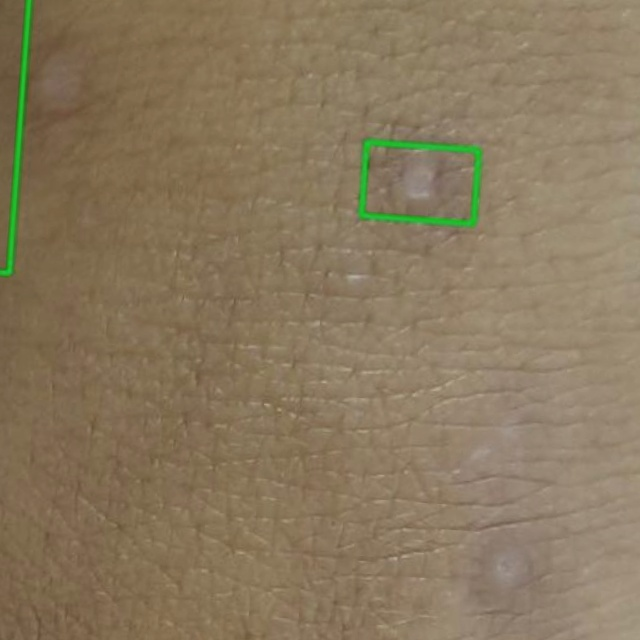Scabies: (361, 142, 478, 223)
